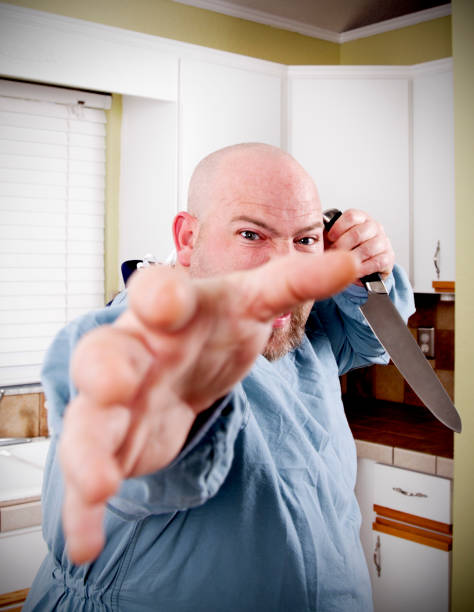knife: (321, 209, 466, 434)
